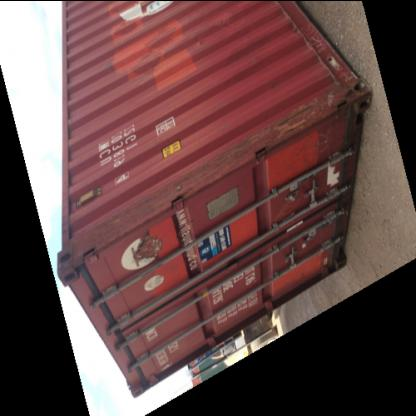Damage: (242, 86, 344, 152), (148, 144, 242, 209), (64, 194, 148, 254), (316, 161, 348, 189)
